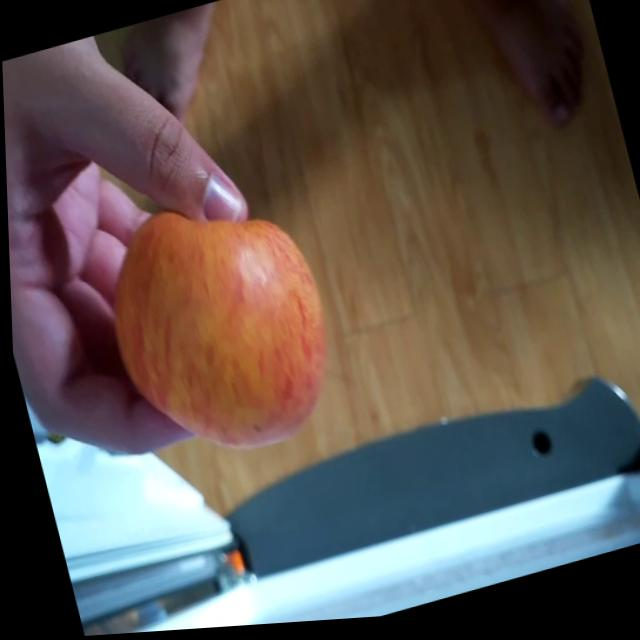apple: (84, 173, 350, 481)
